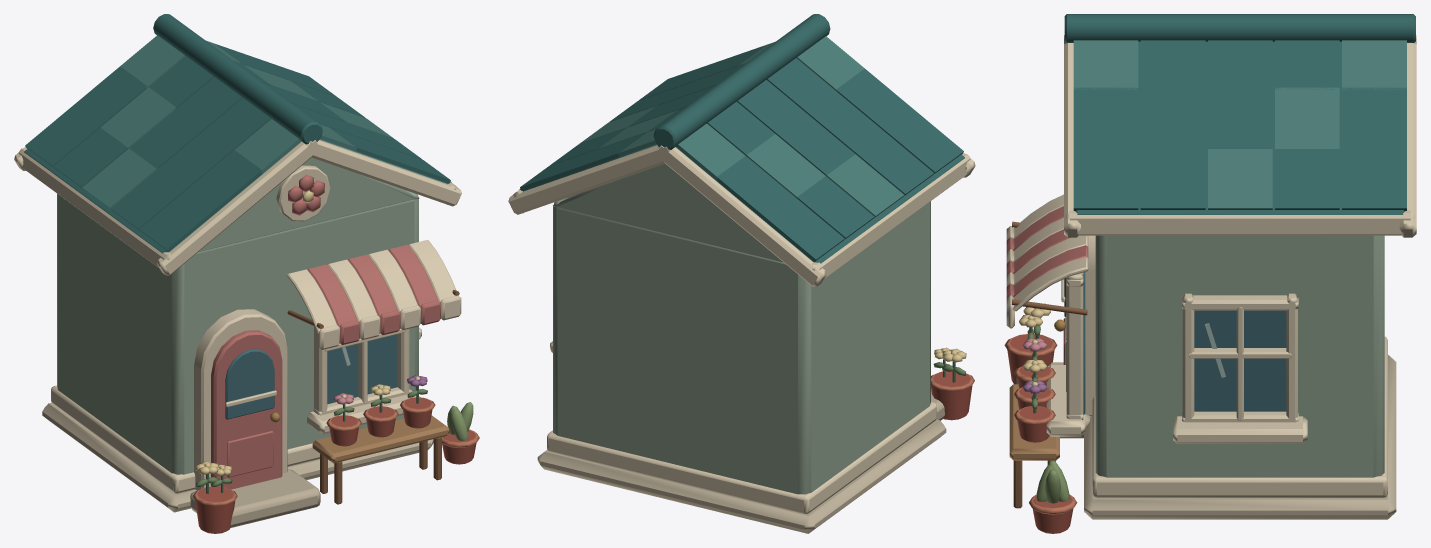
File: florist_level_2.glb
3 views of the same model, side by side, from view 1: azimuth 30°, elevation 25°; view 2: azimuth 150°, elevation 25°; view 3: azimuth 270°, elevation 25° (orthographic). The views are drawn at different scales.
Parts seen in each view (by area): view 1: florist_level_2_runtime; view 2: florist_level_2_runtime; view 3: florist_level_2_runtime.
Boxes of the visible parts, <box> form: florist_level_2_runtime: <box>14,14,479,533</box>; florist_level_2_runtime: <box>508,14,975,533</box>; florist_level_2_runtime: <box>1004,14,1416,533</box>.
Size of the model in its own units: 3.24 by 3.67 by 3.18.
